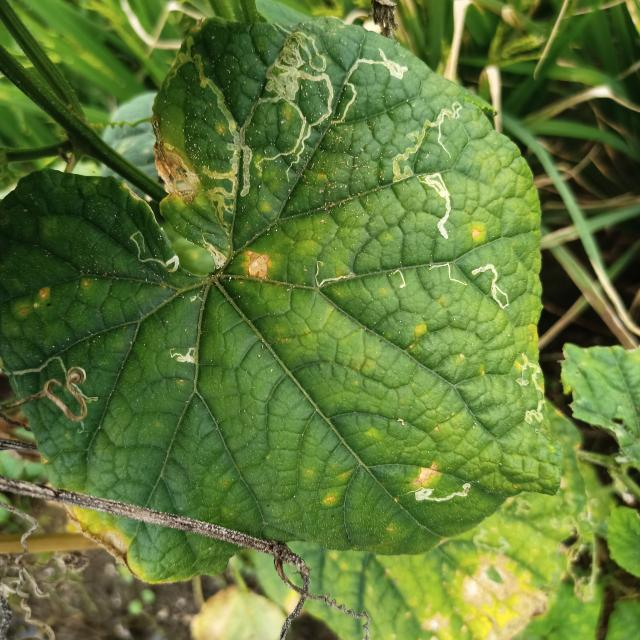disease_cucumber: (16, 282, 48, 321), (244, 248, 273, 281), (416, 462, 441, 485), (467, 226, 486, 244)
